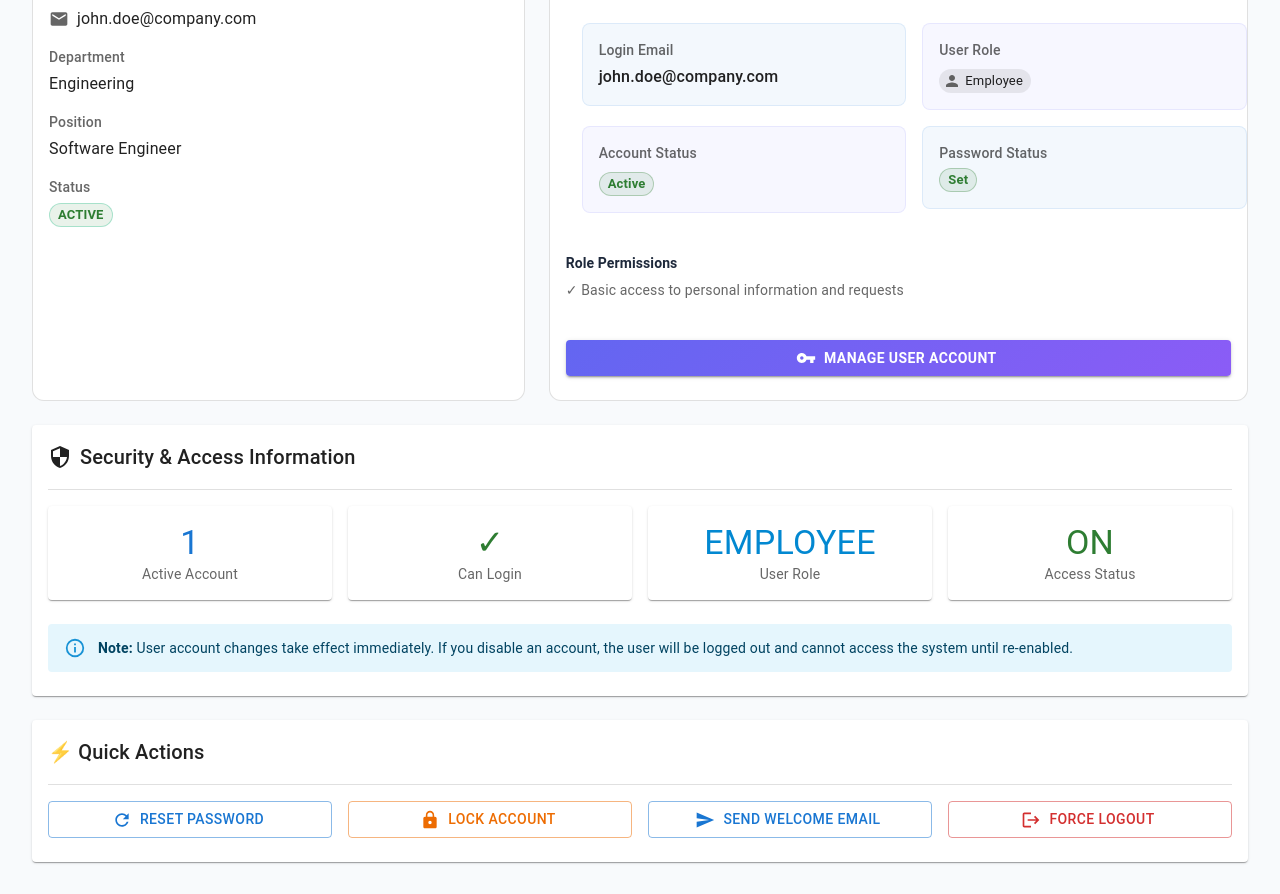
UserAccountManagementPage › Quick Actions - Confirmation Dialogs › opens Force Logout confirmation dialog
(page scrolled)
Click the button with aria-label "logout user from all devices" at (1090, 820), box [948, 802, 1232, 838]
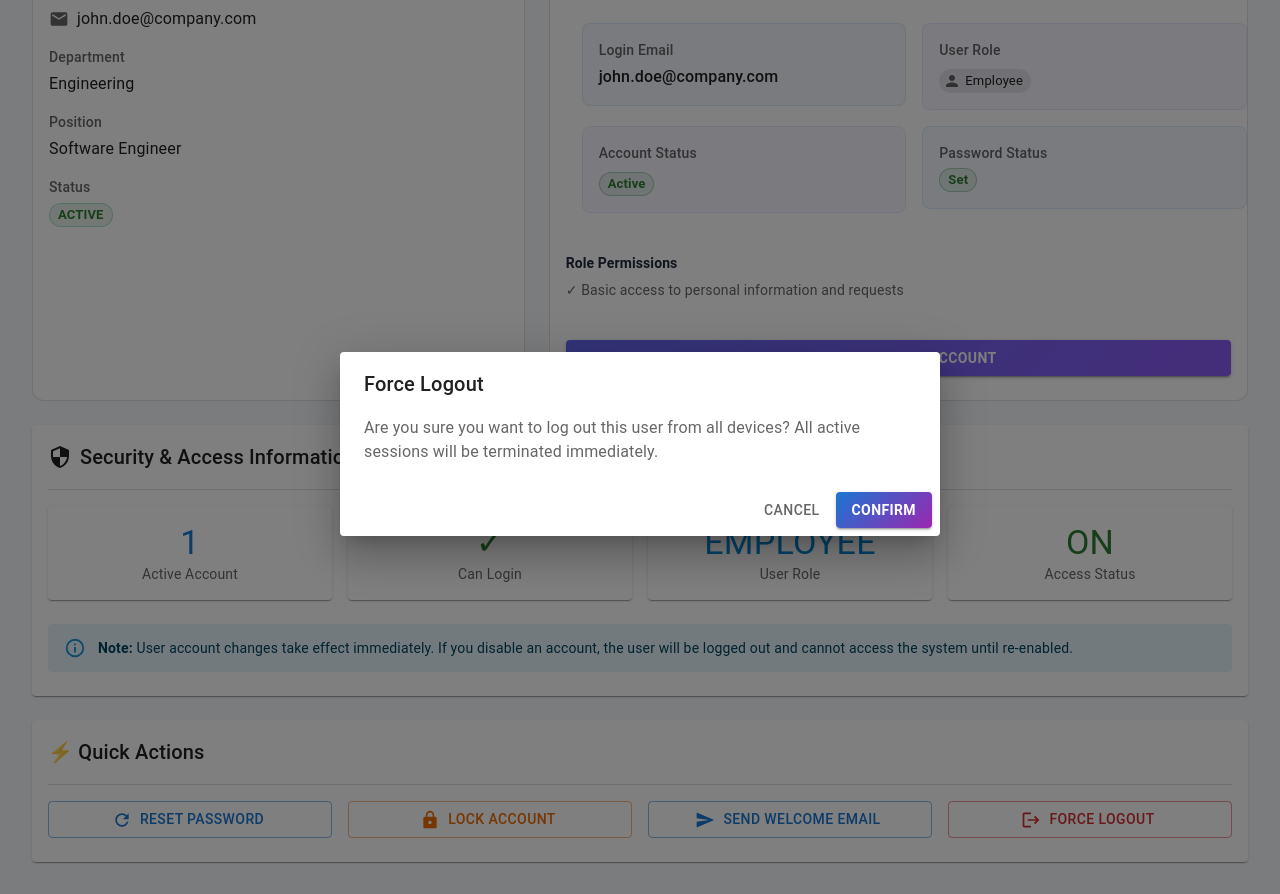
Check: the dialog is shown, box [340, 352, 940, 536]
Check: the text "Are you sure you want to log out" is shown, box [364, 418, 860, 461]
